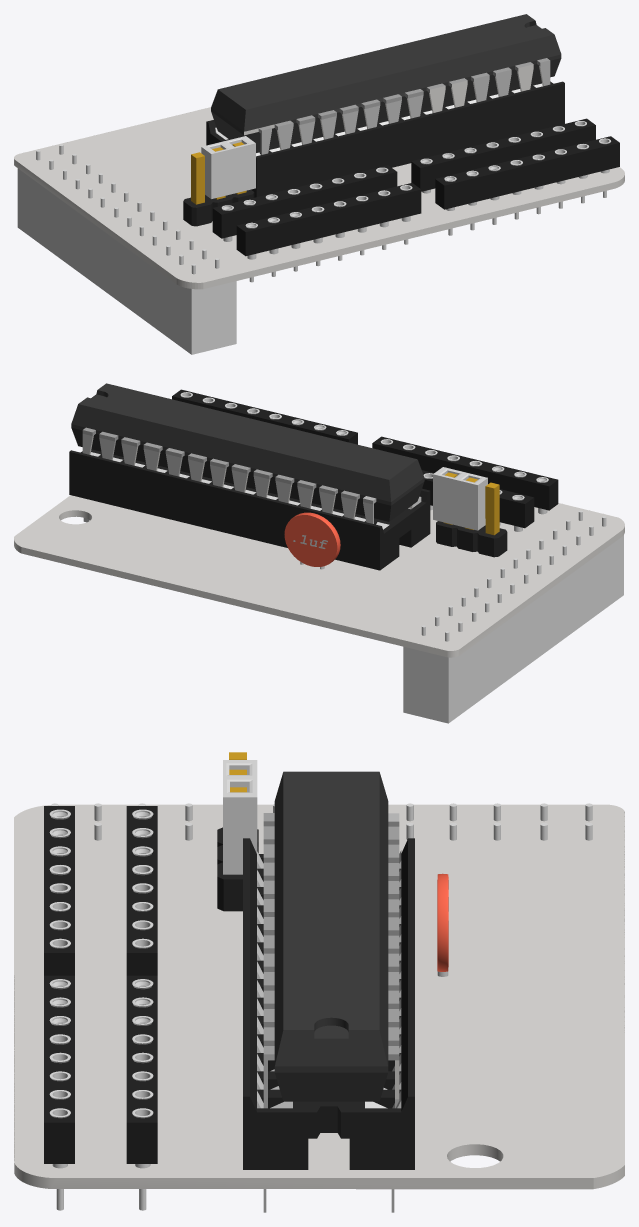
Rendered from Slice-of-Pi.fbx.
3 views of the same model, one above another, from view 1: azimuth 30°, elevation 25°; view 2: azimuth 150°, elevation 25°; view 3: azimuth 270°, elevation 25° (orthographic). The views are drawn at different scales.
Parts seen in each view (by area): view 1: SliceOfPiboard_001, 28-pin DIL IC_001, 28-pin DIL socket_001, socket_001, Socket Plastic_007, Socket Plastic_005, Socket Plastic_003, Socket Plastic_001, jumper_001, jumper#1_003; view 2: SliceOfPiboard_001, 28-pin DIL IC_001, 28-pin DIL socket_001, socket_001, Socket Plastic_007, jumper_001, .1 uf Capacitor_001, Socket Plastic_005, jumper#1_003, Socket Plastic_003, jumper#1_002, jumper#1_001; view 3: SliceOfPiboard_001, 28-pin DIL IC_001, 28-pin DIL socket_001, Socket Plastic_001, Socket Plastic_005, Socket Plastic_003, Socket Plastic_007, jumper_001, .1 uf Capacitor_001, jumper#1_001.
Boxes of the visible parts, left/top/right/bottom form: SliceOfPiboard_001: left=14, top=107, right=624, bottom=289; 28-pin DIL IC_001: left=211, top=14, right=561, bottom=154; 28-pin DIL socket_001: left=206, top=79, right=564, bottom=197; socket_001: left=17, top=168, right=236, bottom=354; Socket Plastic_007: left=236, top=183, right=421, bottom=282; Socket Plastic_005: left=435, top=136, right=619, bottom=235; Socket Plastic_003: left=212, top=165, right=397, bottom=241; Socket Plastic_001: left=411, top=118, right=595, bottom=193; jumper_001: left=201, top=136, right=255, bottom=198; jumper#1_003: left=183, top=152, right=212, bottom=226; SliceOfPiboard_001: left=14, top=495, right=624, bottom=657; 28-pin DIL IC_001: left=71, top=383, right=424, bottom=523; 28-pin DIL socket_001: left=69, top=449, right=430, bottom=570; socket_001: left=403, top=535, right=623, bottom=723; Socket Plastic_007: left=372, top=436, right=558, bottom=514; jumper_001: left=433, top=467, right=487, bottom=530; .1 uf Capacitor_001: left=284, top=512, right=340, bottom=569; Socket Plastic_005: left=172, top=389, right=357, bottom=444; jumper#1_003: left=477, top=482, right=507, bottom=557; Socket Plastic_003: left=421, top=470, right=534, bottom=531; jumper#1_002: left=457, top=477, right=485, bottom=551; jumper#1_001: left=436, top=472, right=458, bottom=546; SliceOfPiboard_001: left=14, top=804, right=624, bottom=1189; 28-pin DIL IC_001: left=263, top=771, right=399, bottom=1108; 28-pin DIL socket_001: left=243, top=838, right=414, bottom=1212; Socket Plastic_001: left=126, top=975, right=157, bottom=1163; Socket Plastic_005: left=44, top=975, right=74, bottom=1163; Socket Plastic_003: left=126, top=806, right=157, bottom=975; Socket Plastic_007: left=44, top=806, right=74, bottom=975; jumper_001: left=223, top=760, right=257, bottom=874; .1 uf Capacitor_001: left=437, top=873, right=448, bottom=976; jumper#1_001: left=217, top=787, right=246, bottom=911.
Size of the model in its own units: 2.04 by 0.6925 by 1.4.
